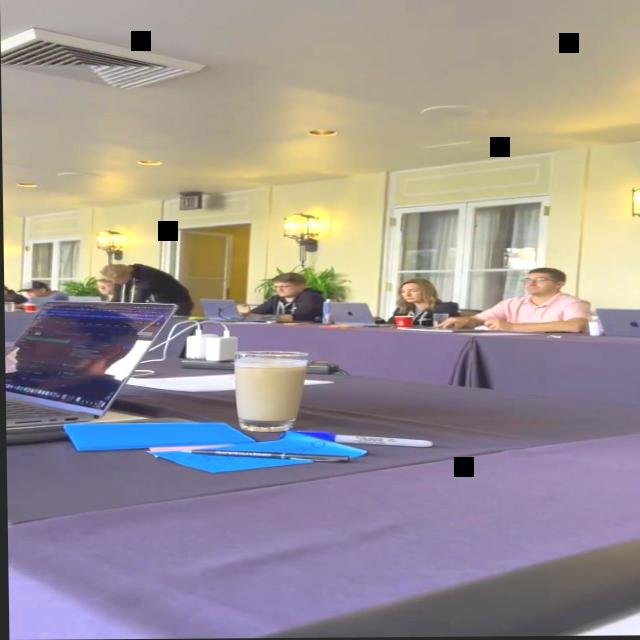NO-Mask: (523, 274, 553, 295), (397, 283, 421, 305), (273, 282, 295, 298), (96, 281, 112, 296), (105, 274, 125, 285), (23, 289, 41, 299)
